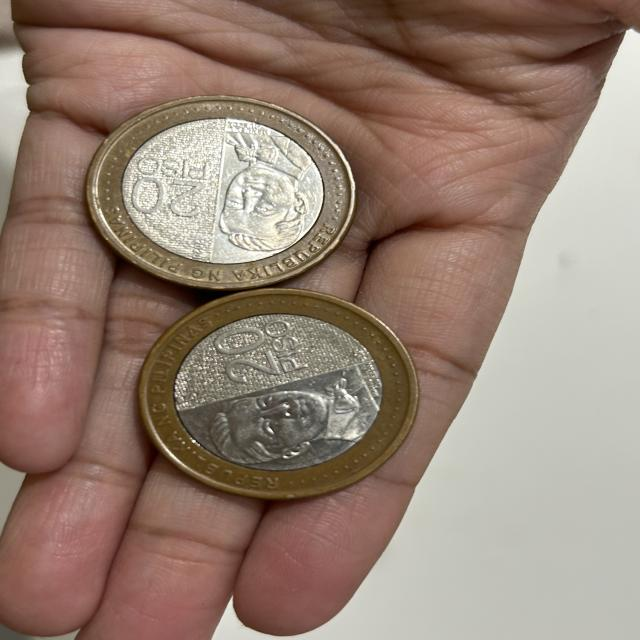20_New_Front: (212, 313, 315, 377), (124, 149, 210, 224)
